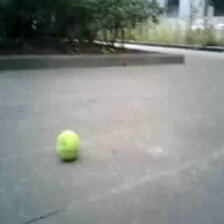tennis: (57, 129, 80, 158)
